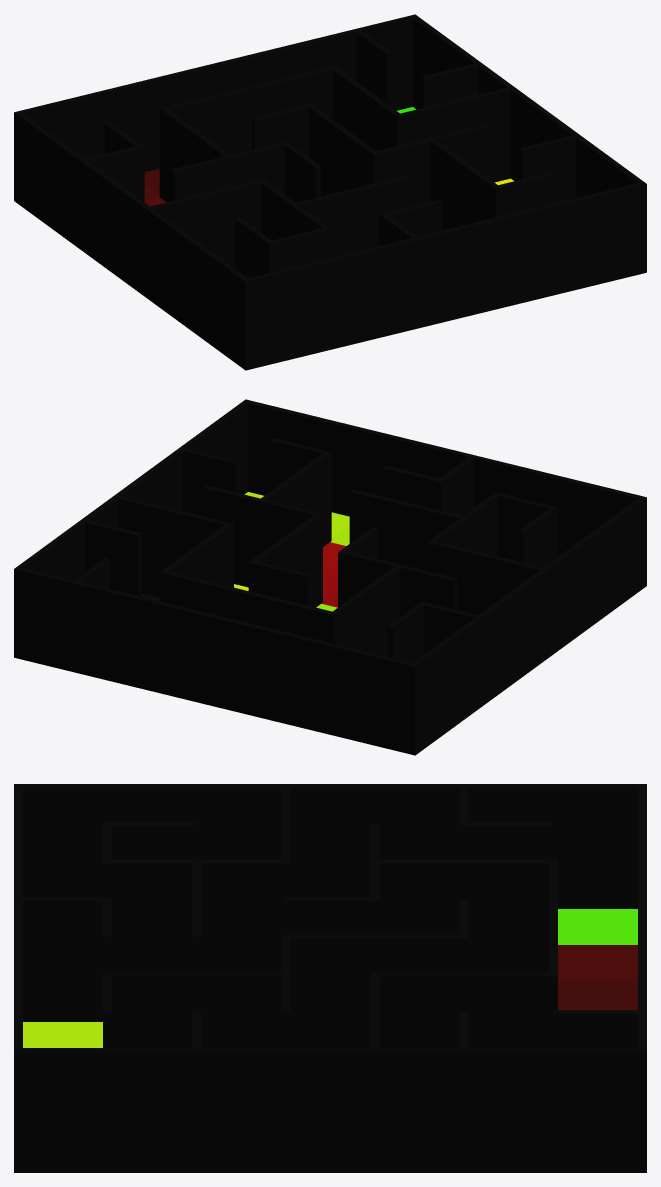
Rendered from SecondFloor(1).fbx.
3 views of the same model, one above another, from view 1: azimuth 30°, elevation 25°; view 2: azimuth 150°, elevation 25°; view 3: azimuth 270°, elevation 25° (orthographic). The views are drawn at different scales.
Parts seen in each view (by area): view 1: MG_Walls, MG_Cells; view 2: MG_Walls, MG_Cells; view 3: MG_Walls, MG_Cells.
Part boxes in pixels (bbox=[...]): MG_Walls: bbox=[14, 14, 646, 370]; MG_Cells: bbox=[144, 107, 513, 206]; MG_Walls: bbox=[14, 399, 646, 755]; MG_Cells: bbox=[142, 492, 349, 611]; MG_Walls: bbox=[14, 784, 646, 1172]; MG_Cells: bbox=[23, 909, 637, 1047].
Bounding box in the file's own units: 710 × 150 × 710.
